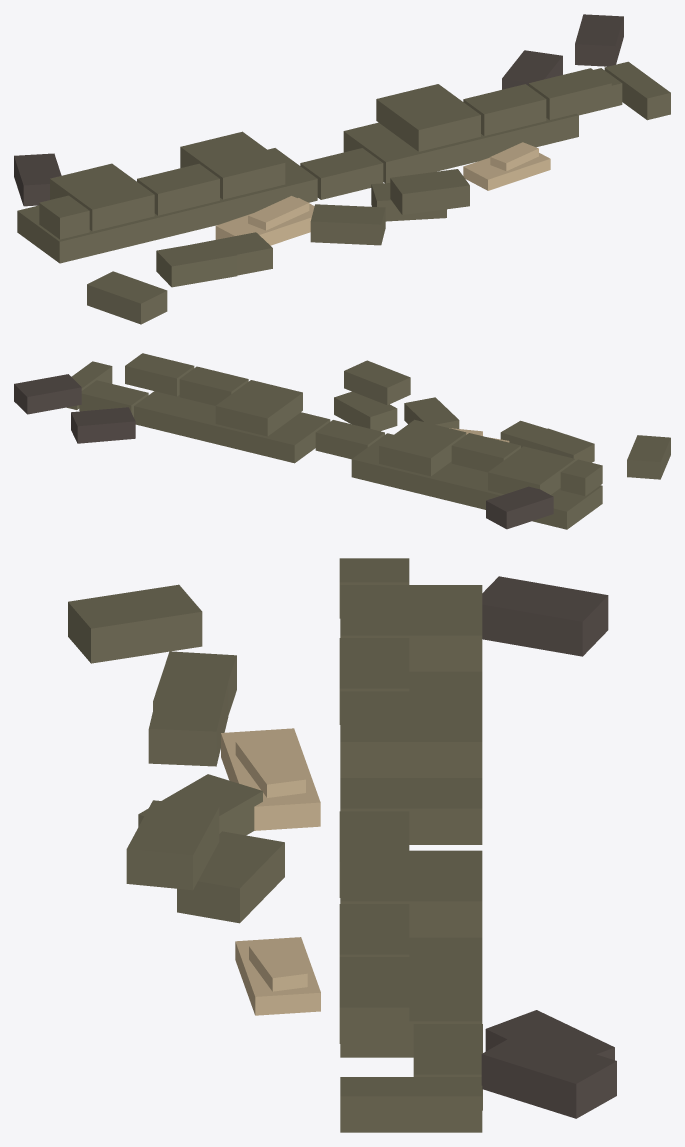
Rendered from SM_MuroSacos_v0_Recto_e2_MuyDanado_LOD1.fbx.
The picture shows the model from 3 angles, top to bottom: view 1: azimuth 30°, elevation 25°; view 2: azimuth 150°, elevation 25°; view 3: azimuth 270°, elevation 25°; orthographic projection. The views are drawn at different scales.
Visible parts, largest first — view 1: SM_bloques.muro_sacos_estados_v2_LOD1; view 2: SM_bloques.muro_sacos_estados_v2_LOD1; view 3: SM_bloques.muro_sacos_estados_v2_LOD1.
Boxes of the visible parts, box(x1,y1,x2,y2) form: SM_bloques.muro_sacos_estados_v2_LOD1: box(14, 14, 670, 324); SM_bloques.muro_sacos_estados_v2_LOD1: box(14, 353, 670, 529); SM_bloques.muro_sacos_estados_v2_LOD1: box(68, 558, 616, 1132).
Size of the model in its own units: 8.54 by 0.585 by 3.71.
